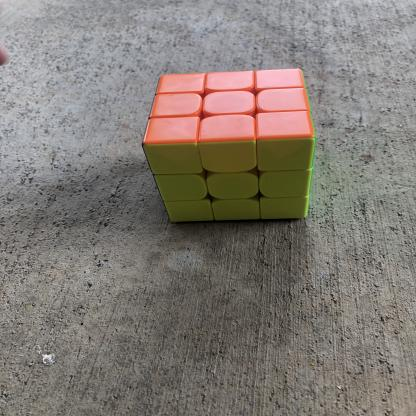SolvedCube: (138, 59, 324, 236)
